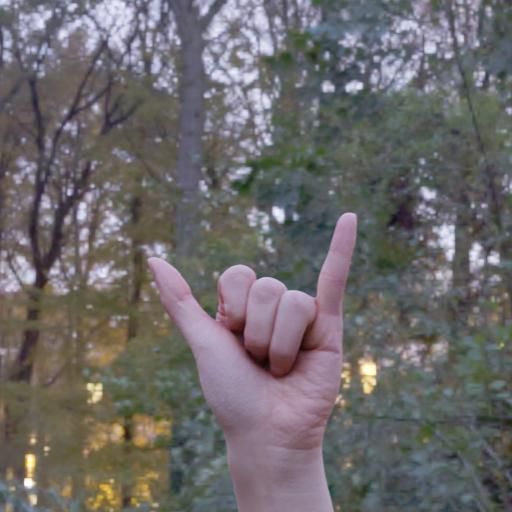Y: (141, 208, 362, 445)
